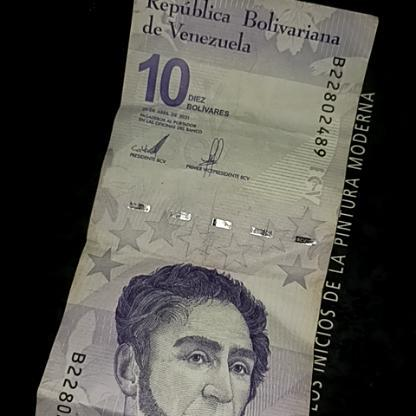ten-front-vef: (31, 0, 378, 415)
